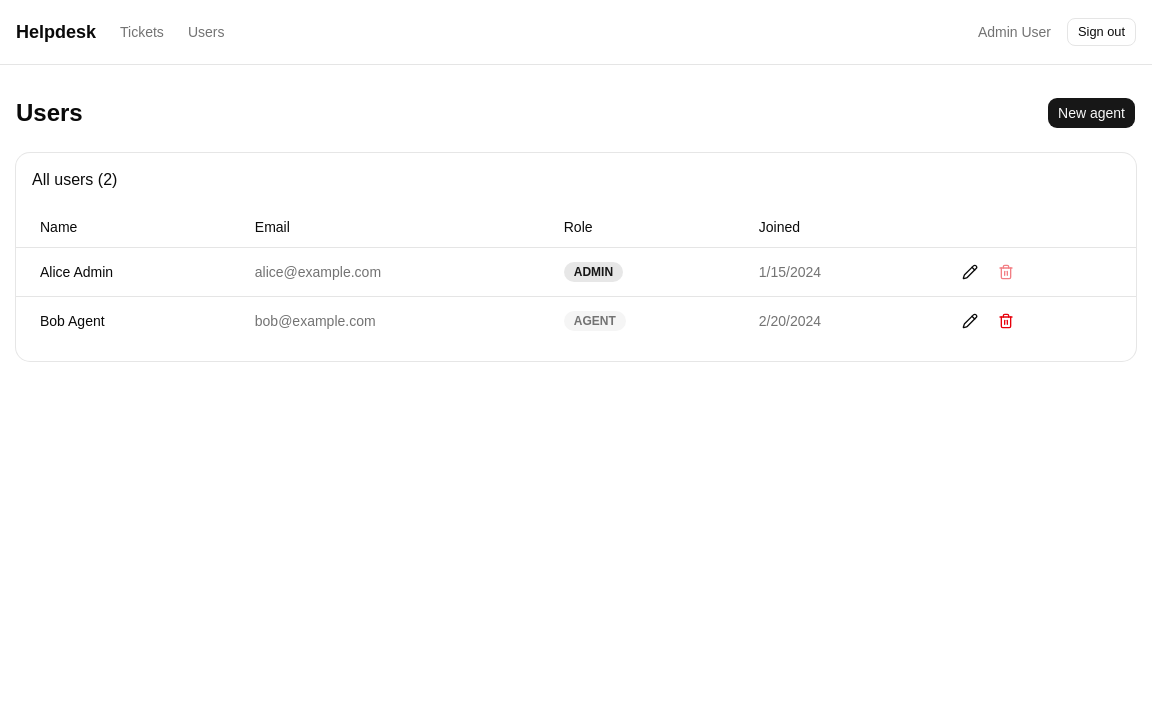
Scenario: UsersPage › successful agent creation from UsersPage › closes dialog and refreshes user list after successful creation
The width and height of the screenshot is (1152, 720).
Expected: the text "Alice Admin" is shown, [16, 247, 231, 296]
# Open dialog
Click the button "New agent" at (1092, 113), box [1047, 97, 1136, 129]
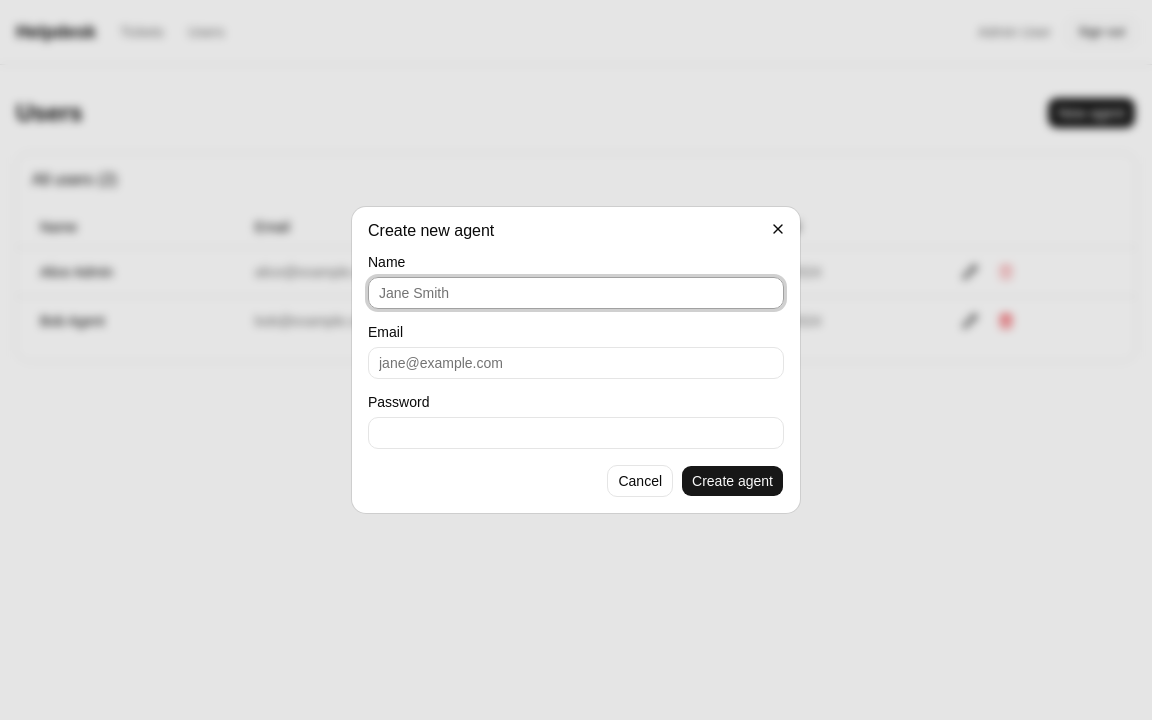
Now the heading "Create new agent" is shown, box [368, 222, 494, 239]
# Fill and submit form
Type "New Agent" into the field labelled "Name" at (576, 293), box [368, 277, 784, 309]
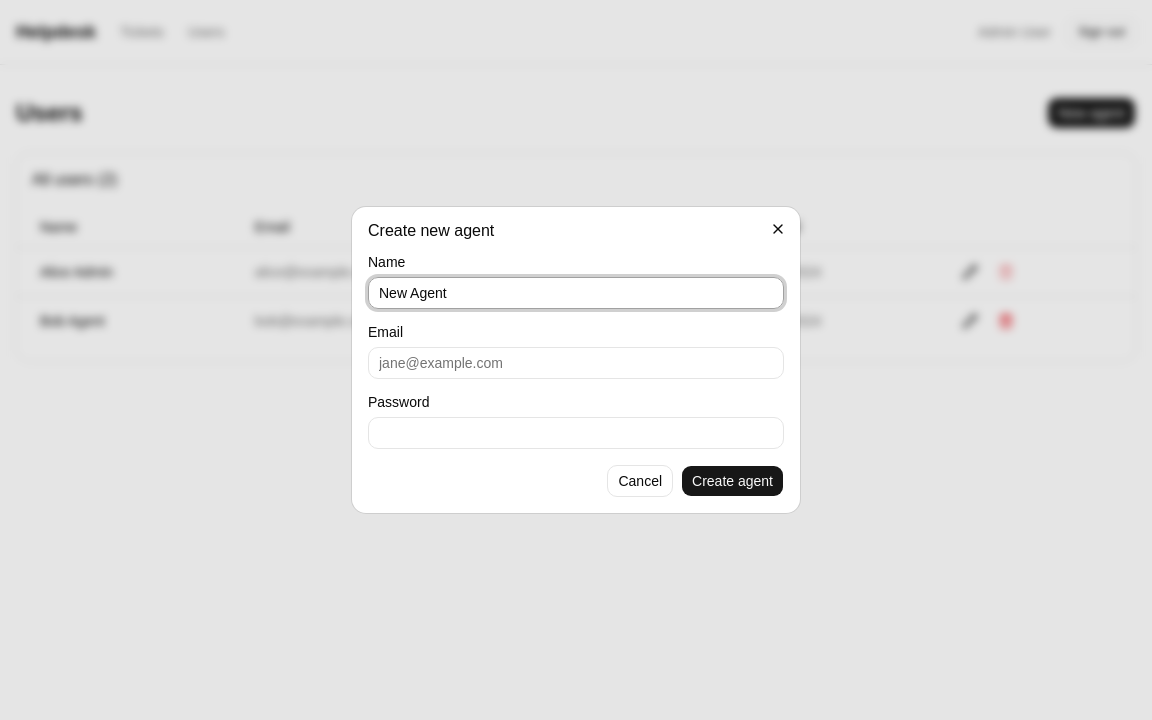
Type "newagent@example.com" into the field labelled "Email" at (576, 363), box [368, 347, 784, 379]
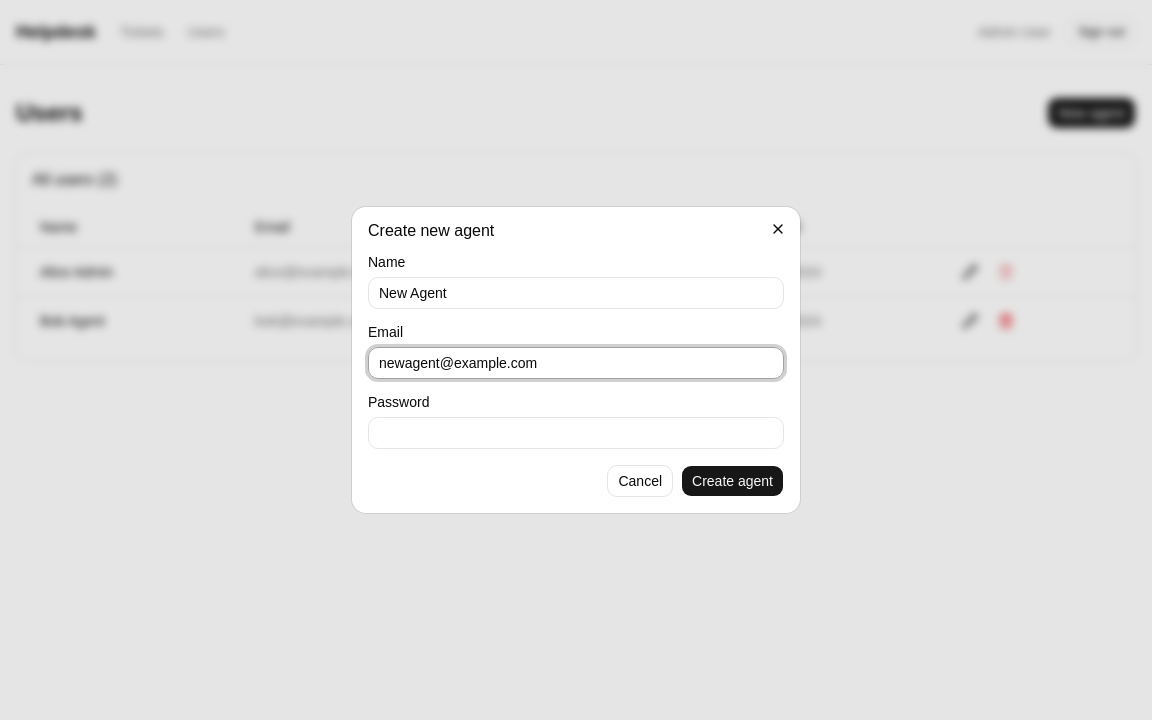
Type "securepassword" into the password field labelled "Password" at (576, 433), box [368, 417, 784, 449]
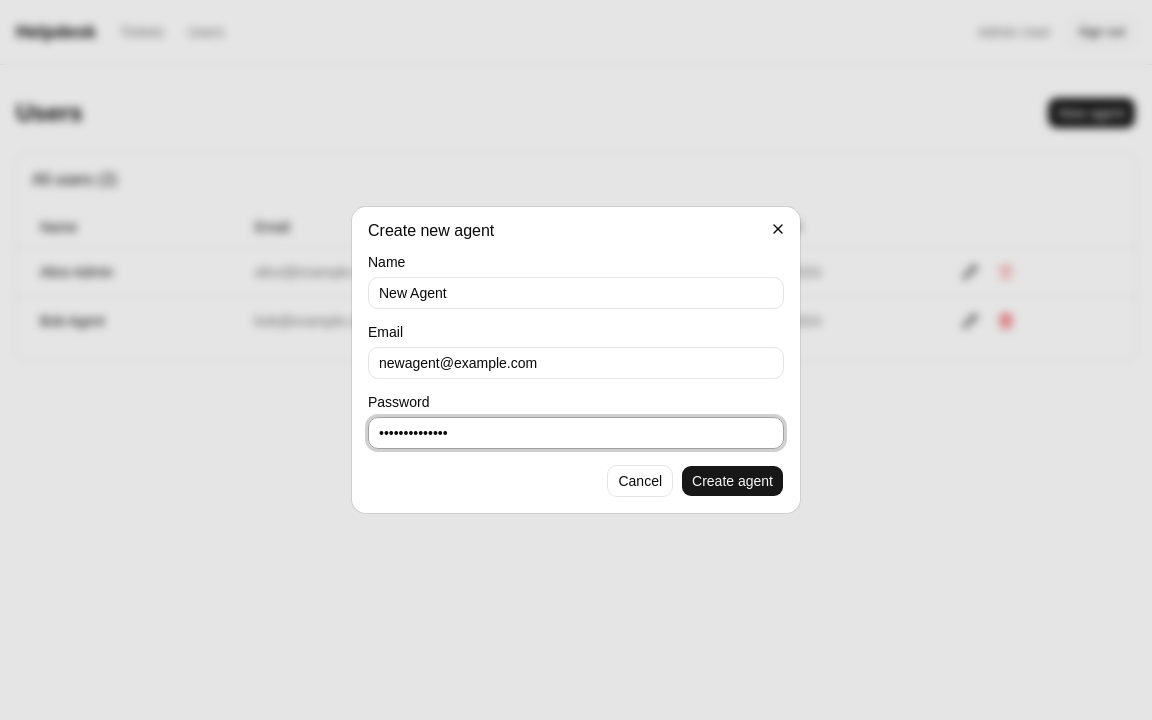
Submit the form "Create agent", box [368, 255, 784, 497]
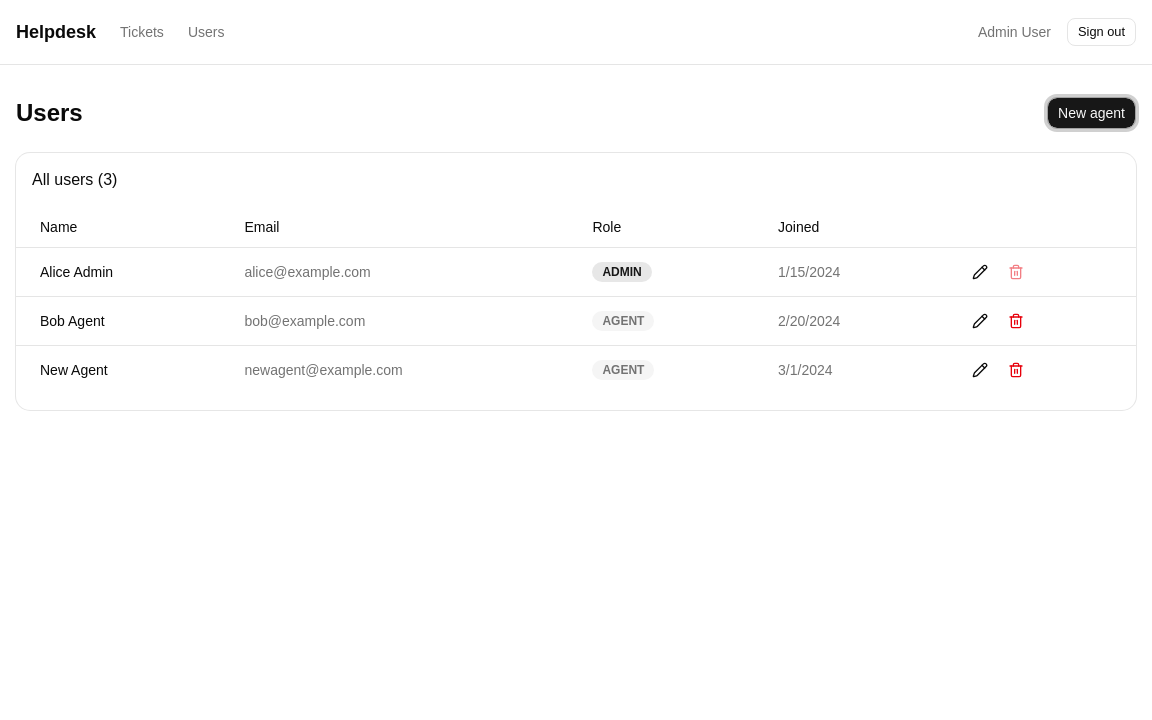
Now the text "New Agent" is shown, box [16, 345, 220, 394]
Now the heading "Create new agent" is gone
Now the text "newagent@example.com" is shown, box [220, 345, 568, 394]
